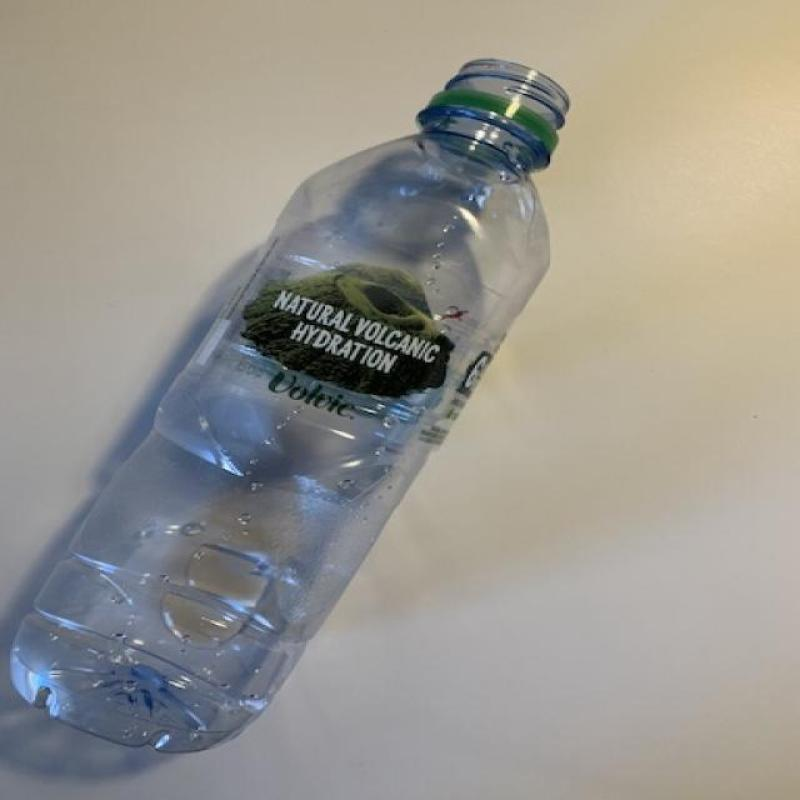botella: (10, 58, 571, 752)
